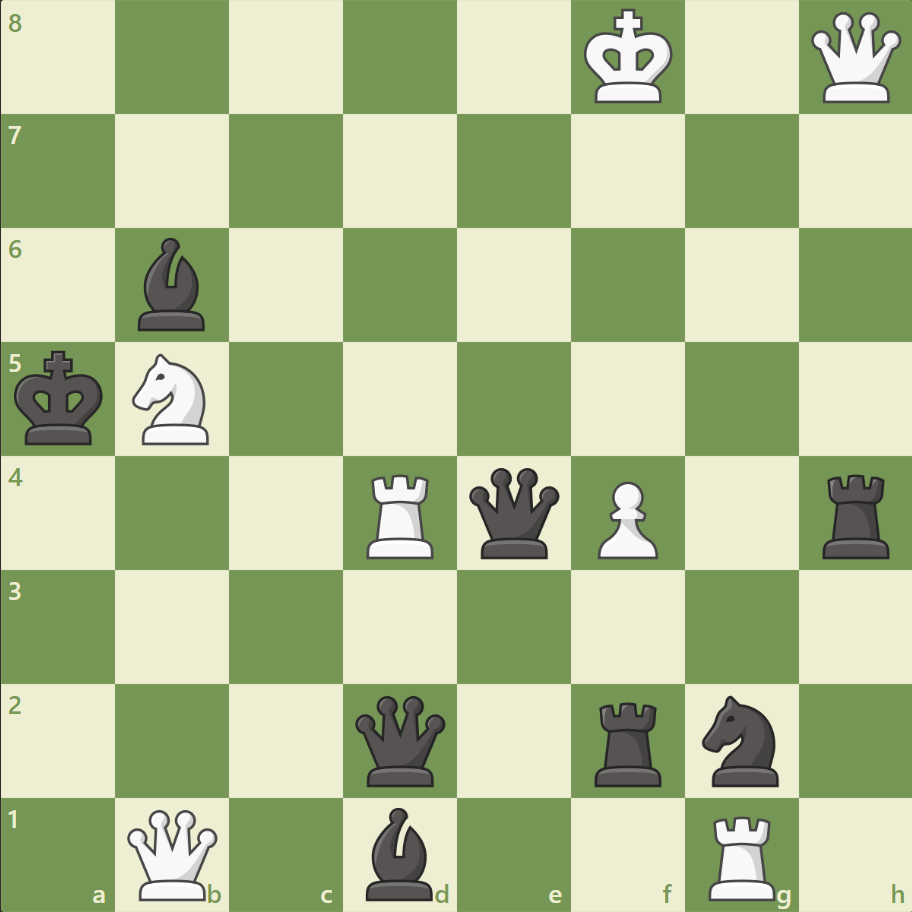K: (579, 4, 679, 112)
N: (124, 348, 222, 450)
P: (588, 473, 662, 564)
Q: (805, 9, 904, 108), (124, 804, 223, 903)
R: (700, 806, 783, 904), (360, 466, 442, 563)
b: (131, 233, 215, 336), (358, 801, 442, 904)
k: (11, 344, 111, 452)
n: (692, 688, 789, 791)
q: (464, 463, 563, 562), (351, 690, 450, 789)
r: (814, 466, 897, 563), (587, 693, 670, 790)
